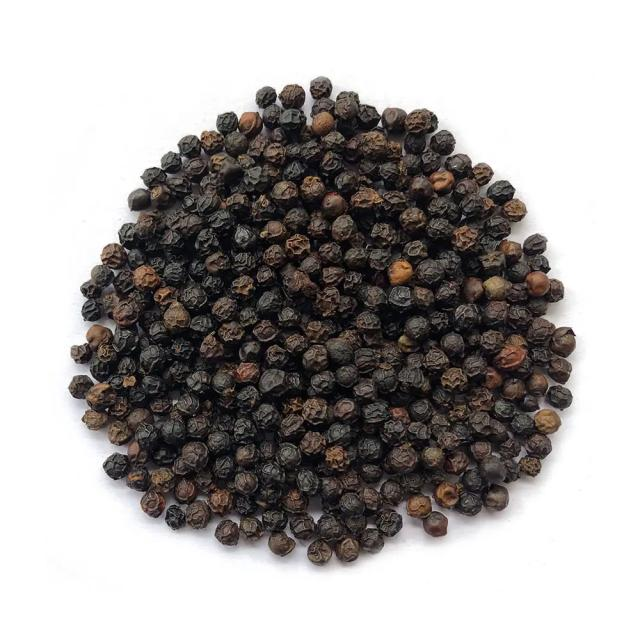Black pepper: (54, 70, 580, 580)
